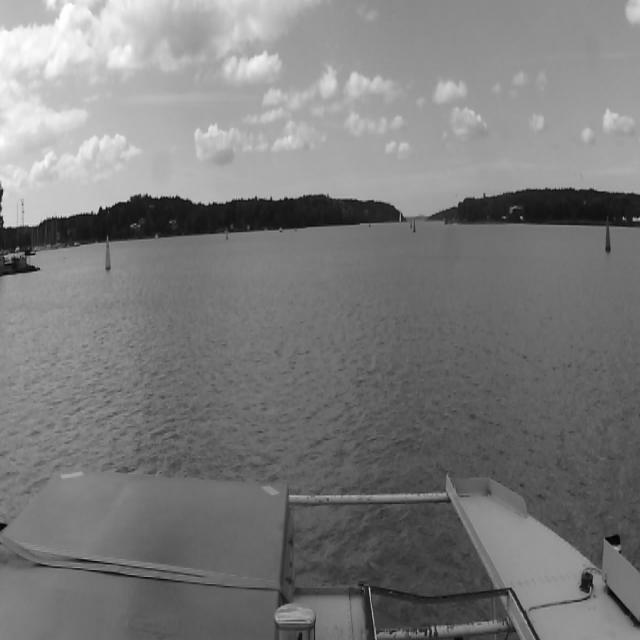buoy: (604, 217, 612, 251), (105, 236, 112, 266), (412, 220, 416, 232), (224, 230, 228, 238)
